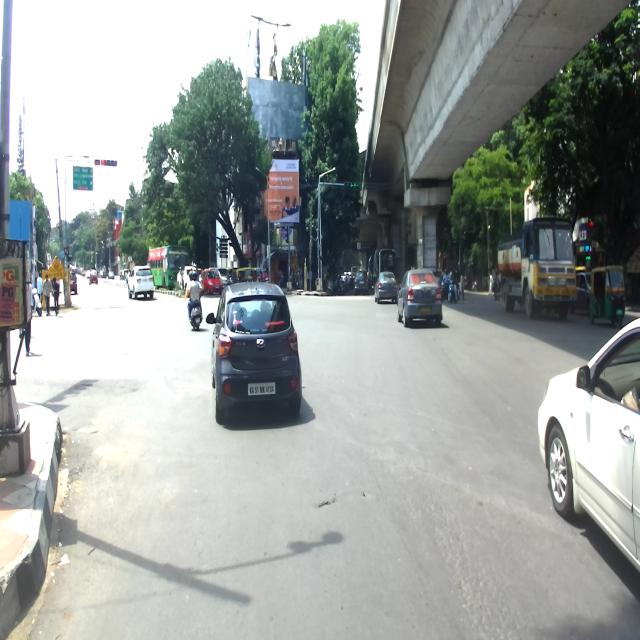car ahead at: (535, 320, 640, 578), (207, 281, 299, 427)
traffic signal ahead at: (100, 152, 118, 175)
